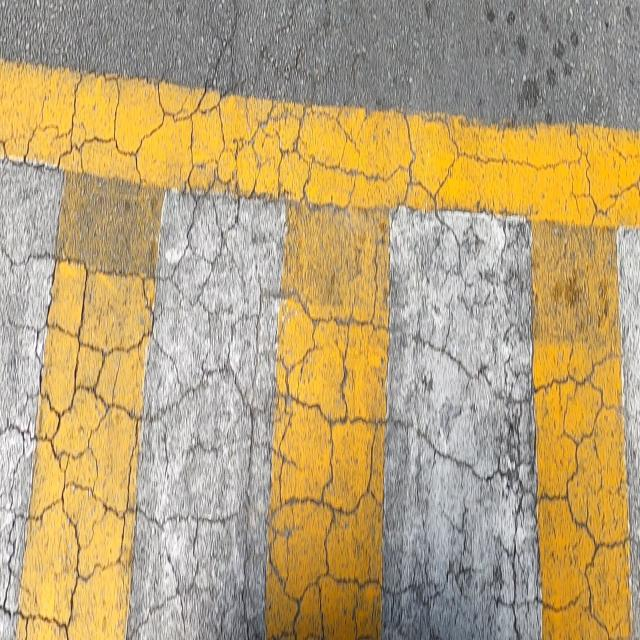Retak-Buaya: (0, 70, 640, 640)
